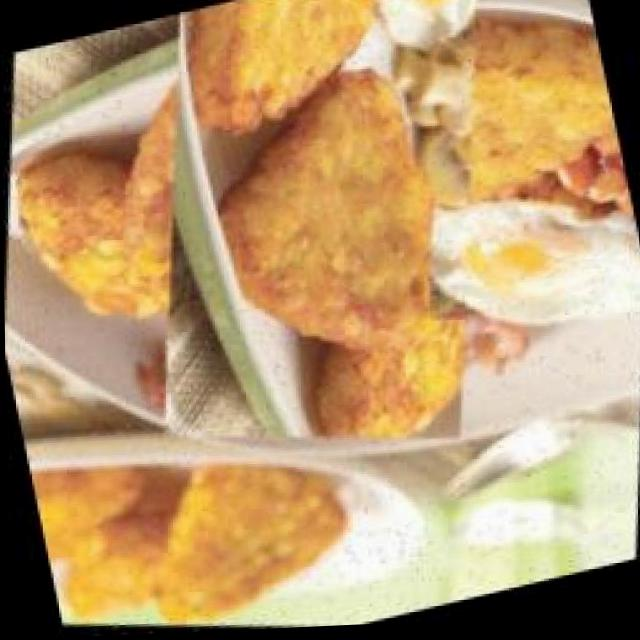fried_eggs: (404, 165, 640, 371)
triangle_hash_brown: (30, 0, 621, 474)
